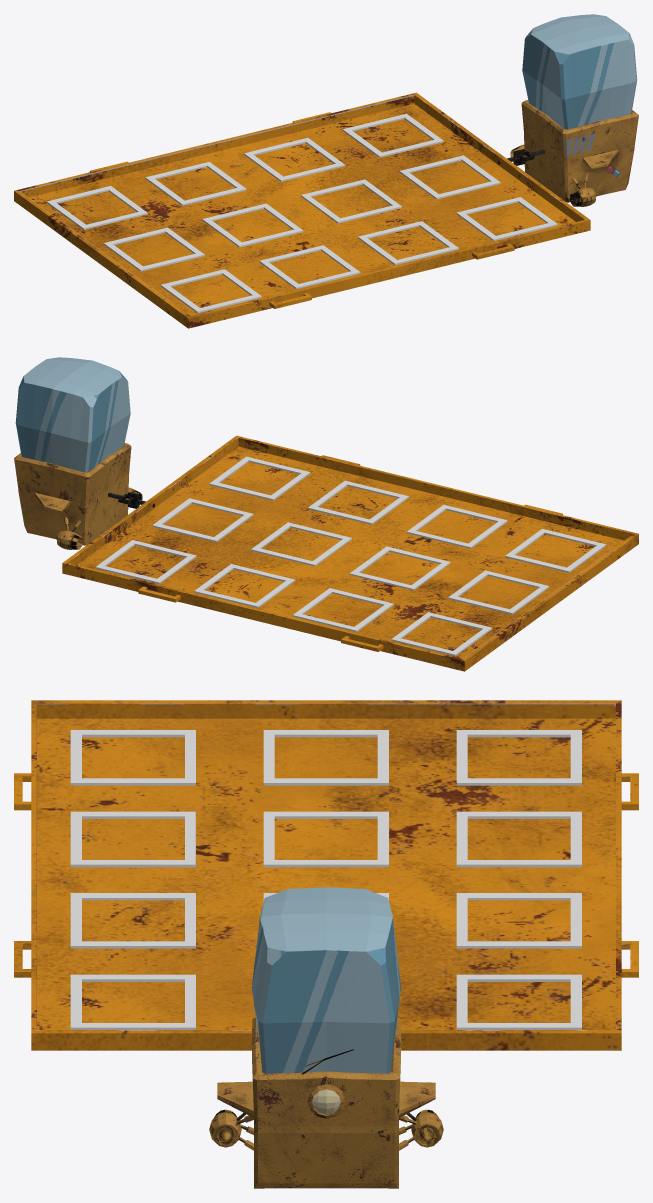
Rendered from Spaceship_Yellow.fbx.
3 renders of one model, top to bottom at view 1: azimuth 30°, elevation 25°; view 2: azimuth 150°, elevation 25°; view 3: azimuth 270°, elevation 25°, orthographic. The views are drawn at different scales.
Parts seen in each view (by area): view 1: Remorque, Windows, SpaceShip; view 2: Remorque, Windows, SpaceShip; view 3: Remorque, Windows, SpaceShip.
Part boxes in pixels (x1,y1,x2,y2): Remorque: (14,92,590,328); Windows: (522,14,637,129); SpaceShip: (498,100,638,206); Remorque: (62,435,638,671); Windows: (15,357,130,472); SpaceShip: (14,443,154,549); Remorque: (14,700,638,1050); Windows: (251,887,401,1073); SpaceShip: (209,1017,443,1188).
Size of the model in its own units: 527 by 146 by 324.
3 materials, 3 textured.
